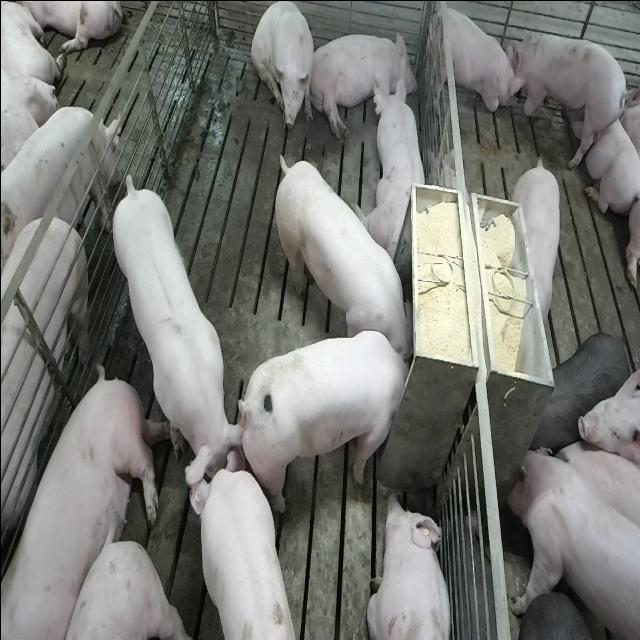Feeding: (244, 329, 418, 513), (270, 146, 410, 358)
Lateral_lying: (307, 27, 417, 138)
Sitting: (422, 0, 518, 123), (250, 2, 316, 136)
Standing: (110, 170, 248, 500), (0, 206, 90, 574), (505, 444, 639, 640), (190, 467, 301, 640), (0, 100, 117, 256), (509, 27, 626, 165), (534, 331, 630, 448), (512, 153, 562, 327)
Sternal_lying: (365, 488, 453, 640), (360, 76, 430, 264), (564, 82, 638, 212)
